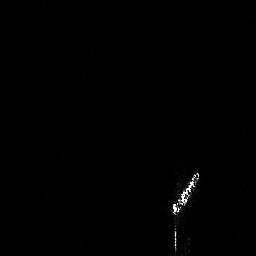ship: (168, 169, 203, 219)
